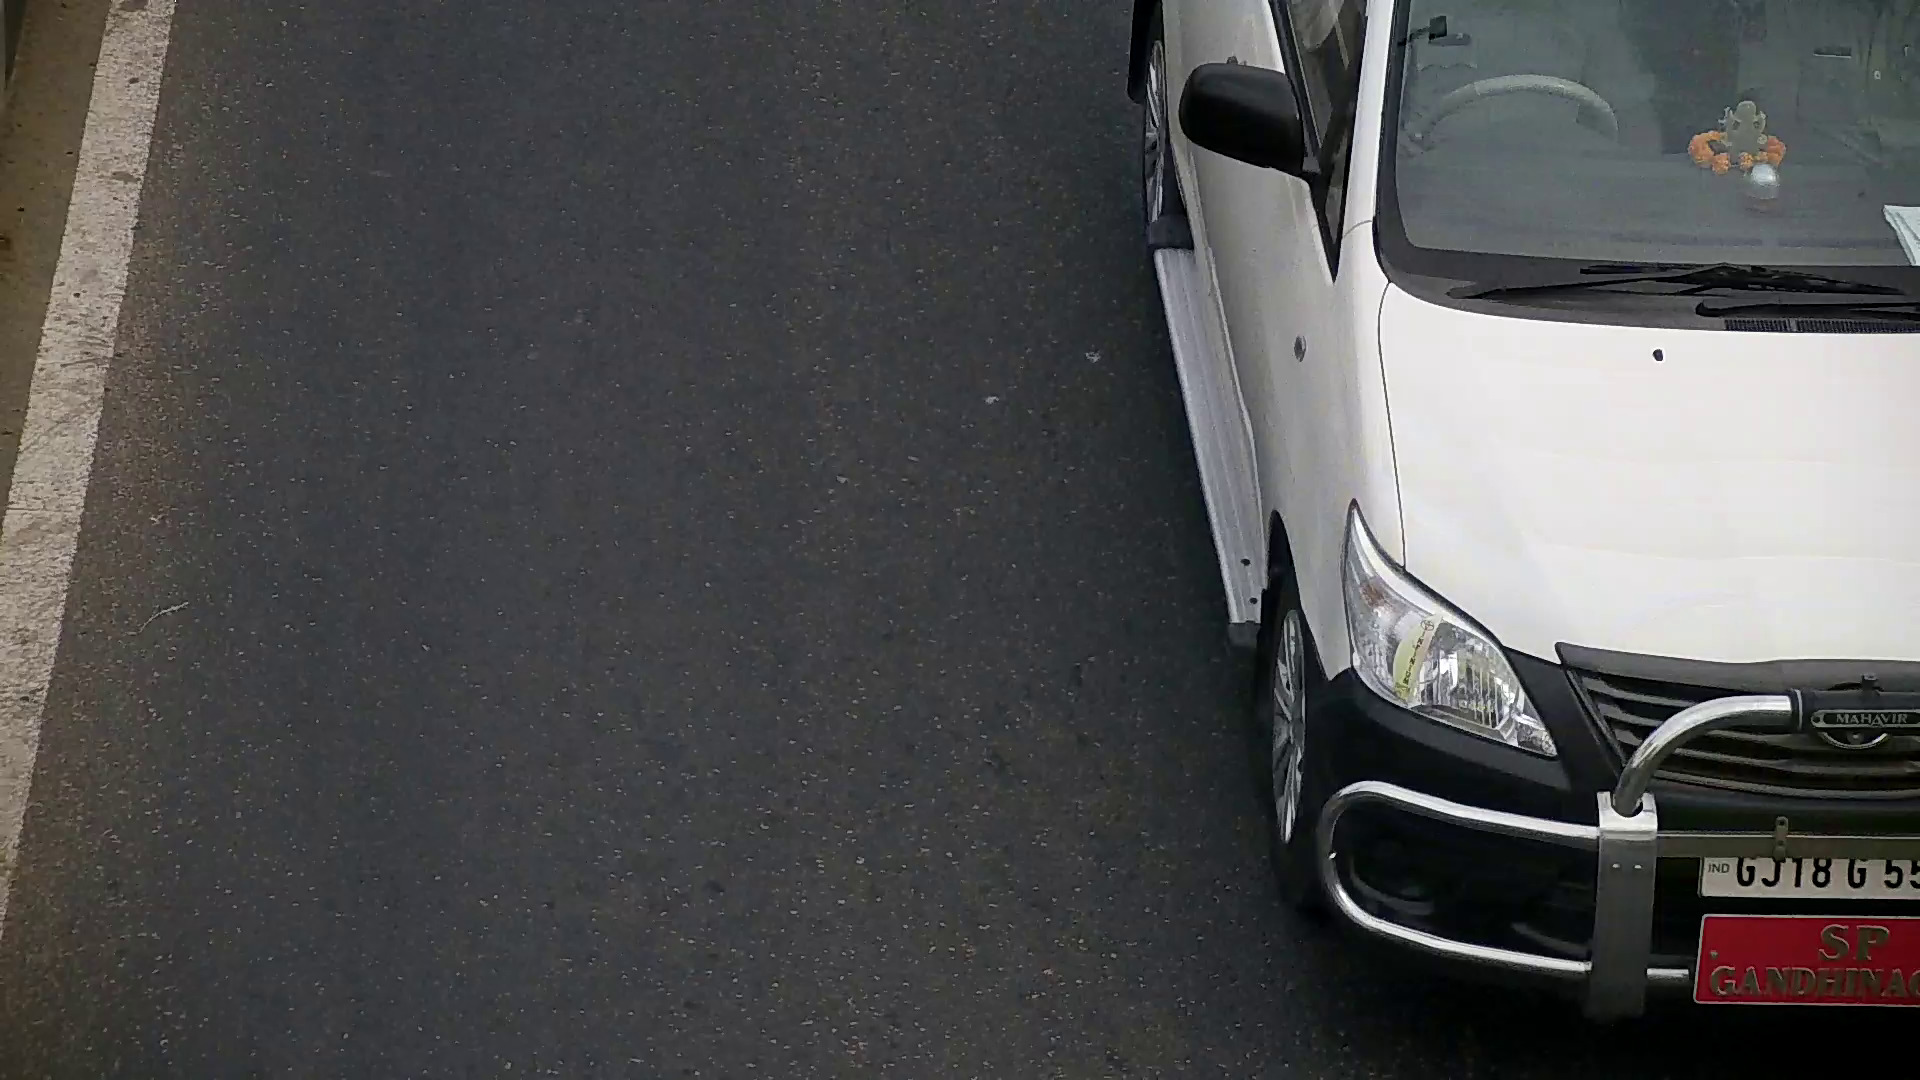numberplate: (1695, 859, 1920, 898)
